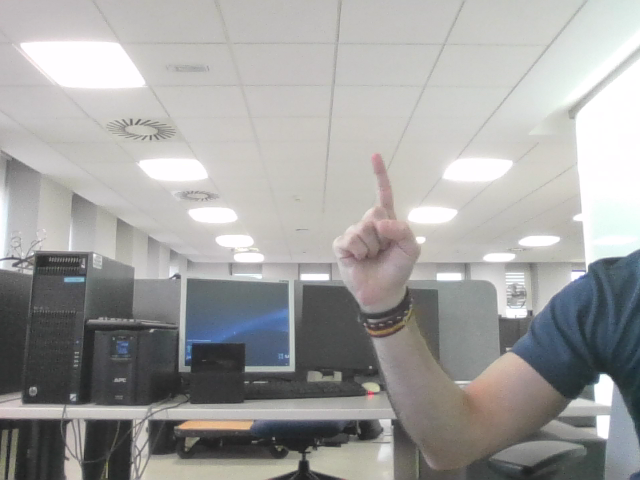1Dedo: (346, 163, 408, 270)
